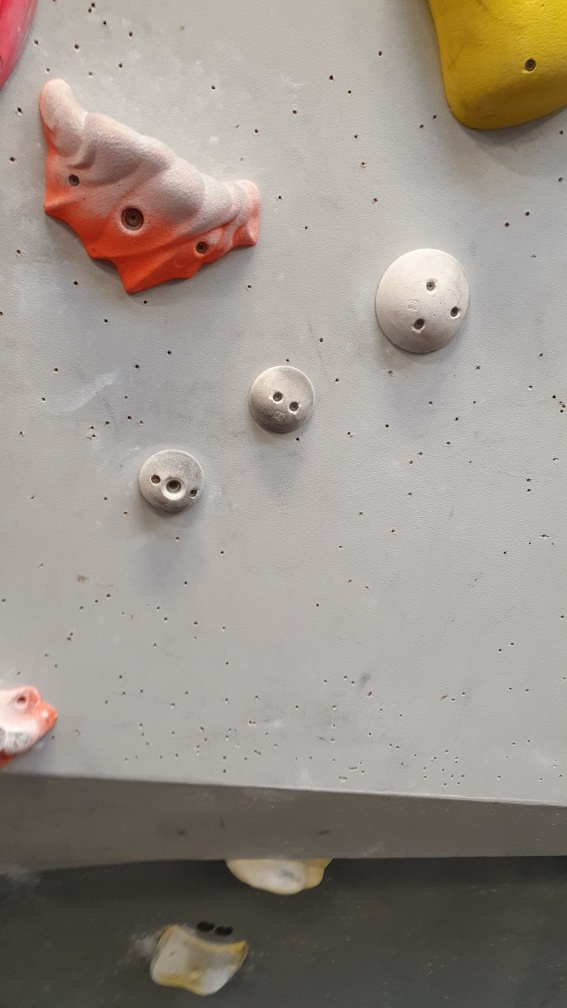Hand Start: (215, 917, 234, 940)
Jug: (35, 77, 266, 302)
Sloper: (372, 245, 475, 357), (247, 362, 318, 440), (138, 447, 208, 517), (193, 917, 216, 936)
